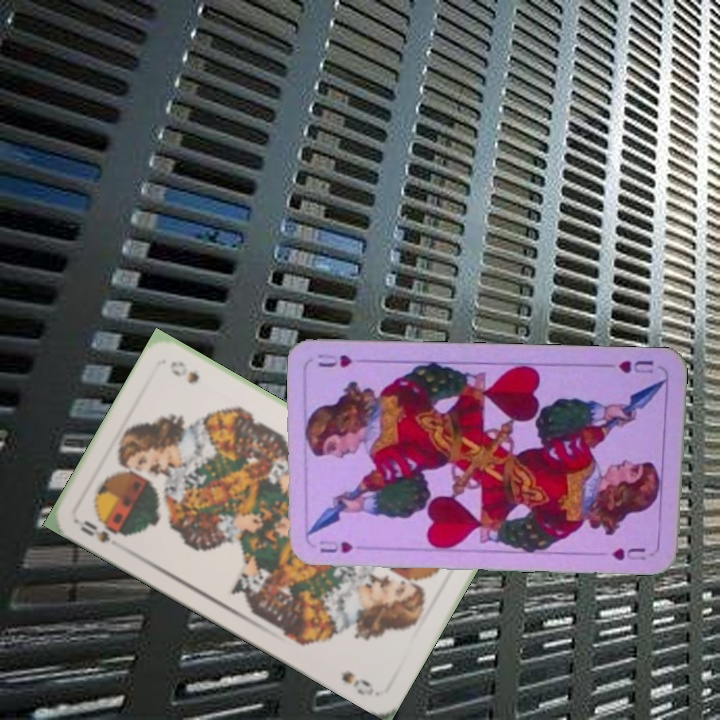HU: (615, 356, 656, 376), (315, 536, 355, 556)
SO: (73, 516, 129, 546)
